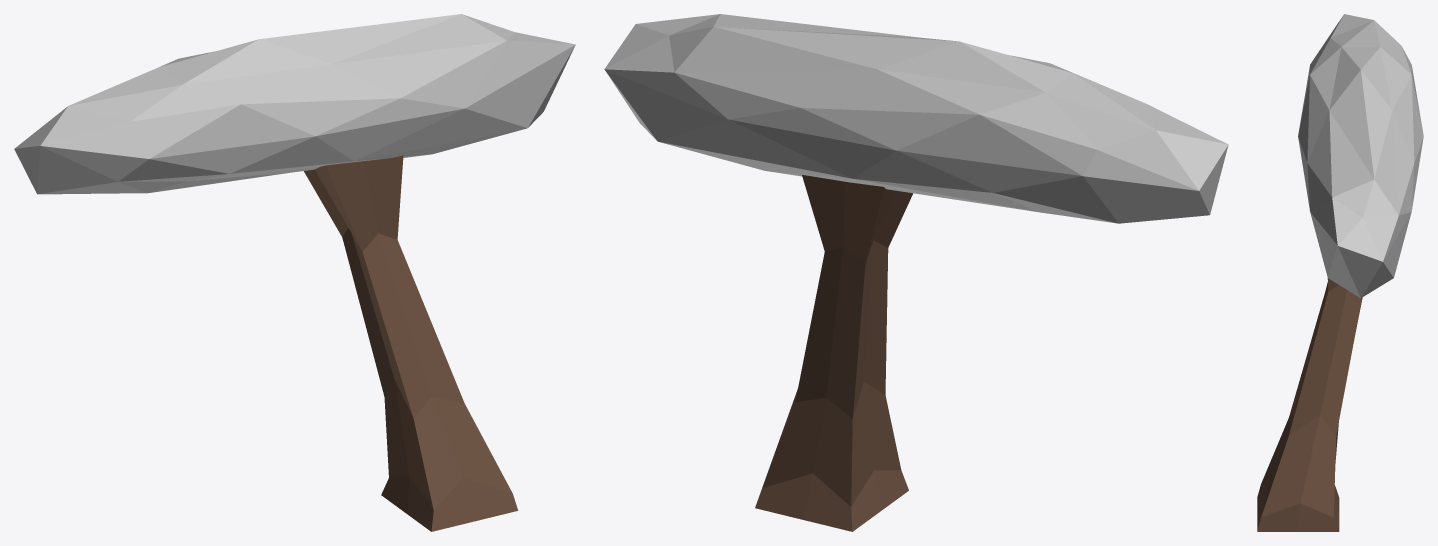
File: Tree_36_White.fbx
3 renders of one model, left to right at view 1: azimuth 30°, elevation 25°; view 2: azimuth 150°, elevation 25°; view 3: azimuth 270°, elevation 25°, orthographic. The views are drawn at different scales.
Visible parts, largest first — view 1: Tree_36_White_Part_1, Tree_36_White_Part_2; view 2: Tree_36_White_Part_1, Tree_36_White_Part_2; view 3: Tree_36_White_Part_1, Tree_36_White_Part_2.
Boxes of the visible parts, x1,y1,x2,y2 form: Tree_36_White_Part_1: [14, 14, 575, 194]; Tree_36_White_Part_2: [304, 155, 518, 531]; Tree_36_White_Part_1: [604, 14, 1228, 223]; Tree_36_White_Part_2: [755, 175, 912, 531]; Tree_36_White_Part_1: [1298, 14, 1423, 297]; Tree_36_White_Part_2: [1257, 278, 1362, 531].
Bounding box in the file's own units: 795 × 675 × 265.
